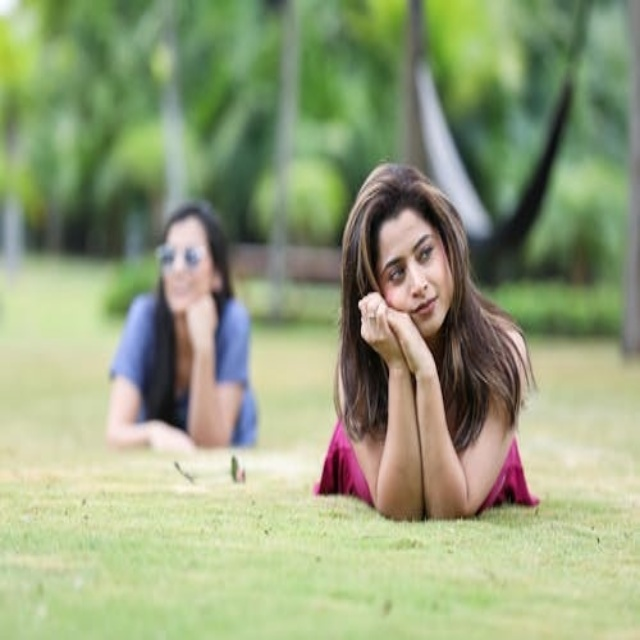Sin_gafas: (379, 227, 440, 290)
Sin_guantes: (353, 277, 436, 386)
Sin_mascara: (411, 283, 448, 331)
